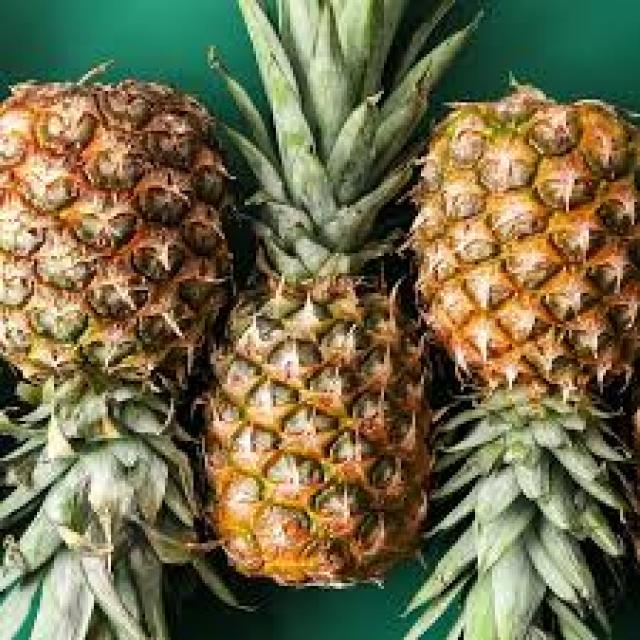pineapple: (418, 82, 640, 640), (3, 74, 219, 640), (216, 3, 415, 589)
